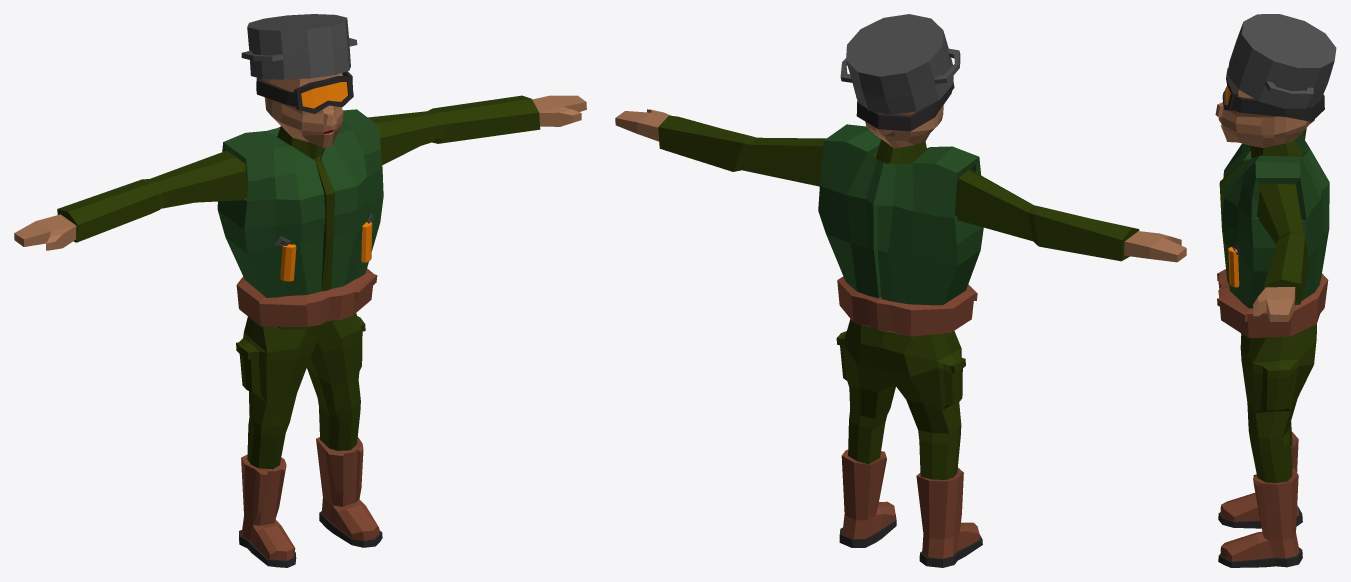
Rendered from fighter.fbx.
3 renders of one model, left to right at view 1: azimuth 30°, elevation 25°; view 2: azimuth 150°, elevation 25°; view 3: azimuth 270°, elevation 25°, orthographic.
Parts seen in each view (by area): view 1: Cube.004, Cube.003, Цилиндр, Cube, Куб, Cube.002, Куб.001; view 2: Cube.004, Цилиндр, Cube.003, Cube, Куб, Cube.002; view 3: Cube.004, Цилиндр, Cube.003, Cube, Куб, Cube.002, Torus.001.
Boxes of the visible parts, <box> form: Cube.004: <box>57,95,540,469</box>; Cube.003: <box>241,437,379,560</box>; Цилиндр: <box>241,14,357,79</box>; Cube: <box>14,73,586,250</box>; Куб: <box>256,71,353,113</box>; Cube.002: <box>239,511,382,567</box>; Куб.001: <box>301,82,347,108</box>; Cube.004: <box>658,115,1139,479</box>; Цилиндр: <box>840,14,960,114</box>; Cube.003: <box>841,449,980,558</box>; Cube: <box>615,105,1186,262</box>; Куб: <box>856,81,954,131</box>; Cube.002: <box>839,514,982,567</box>; Cube.004: <box>1217,128,1329,482</box>; Цилиндр: <box>1227,14,1336,108</box>; Cube.003: <box>1220,431,1299,561</box>; Cube: <box>1215,83,1314,321</box>; Куб: <box>1222,67,1324,121</box>; Cube.002: <box>1218,507,1302,567</box>; Torus.001: <box>1228,244,1240,287</box>.
Bounding box in the file's own units: 1590 × 1407 × 300.
